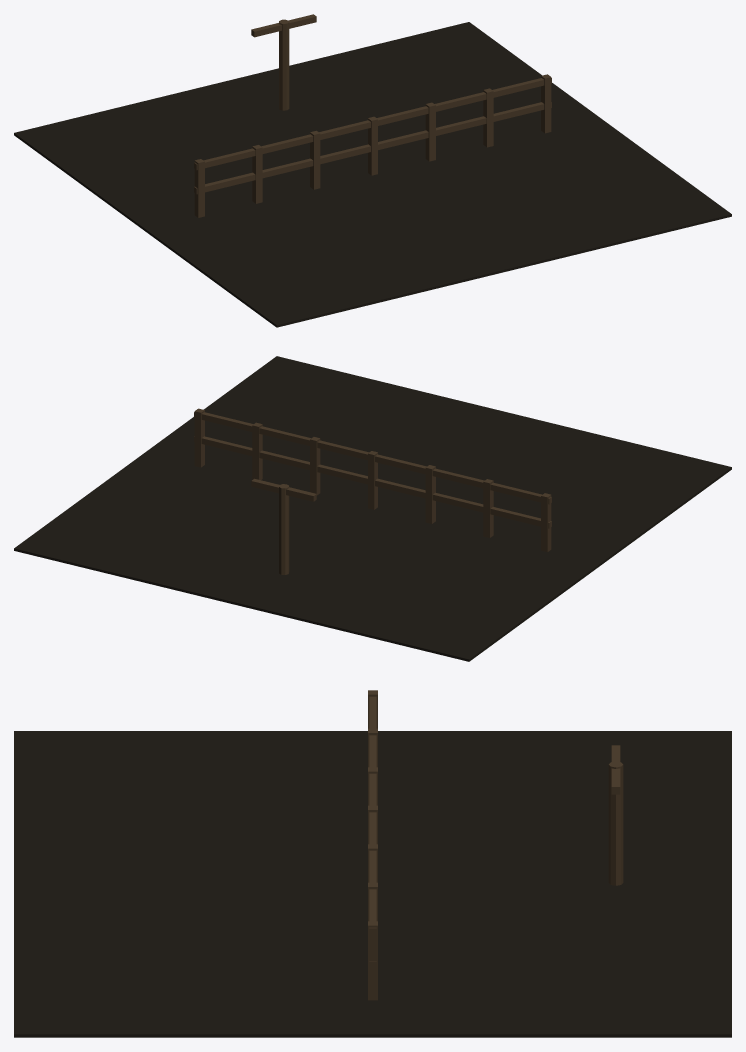
Rendered from CourtyardTiltyard.fbx.
3 views of the same model, one above another, from view 1: azimuth 30°, elevation 25°; view 2: azimuth 150°, elevation 25°; view 3: azimuth 270°, elevation 25° (orthographic). The views are drawn at different scales.
Parts seen in each view (by area): view 1: CourtyardTiltyard; view 2: CourtyardTiltyard; view 3: CourtyardTiltyard.
Boxes of the visible parts, <box> form: CourtyardTiltyard: <box>14,14,731,327</box>; CourtyardTiltyard: <box>14,356,731,661</box>; CourtyardTiltyard: <box>14,690,731,1037</box>.
Bounding box in the file's own units: 1182 × 221 × 1182.
Materials: 2 (2 with a texture image).
